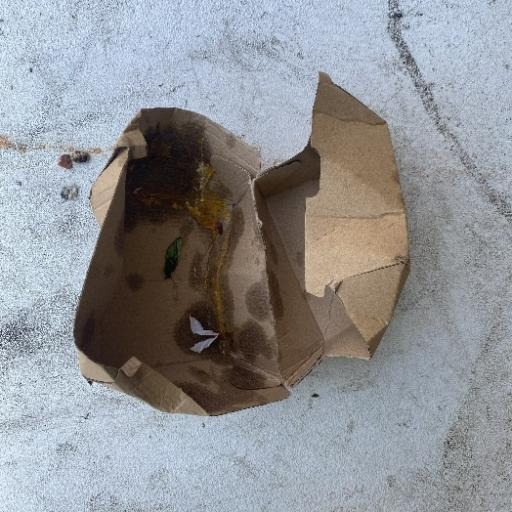Cardboard: (72, 70, 412, 418)
